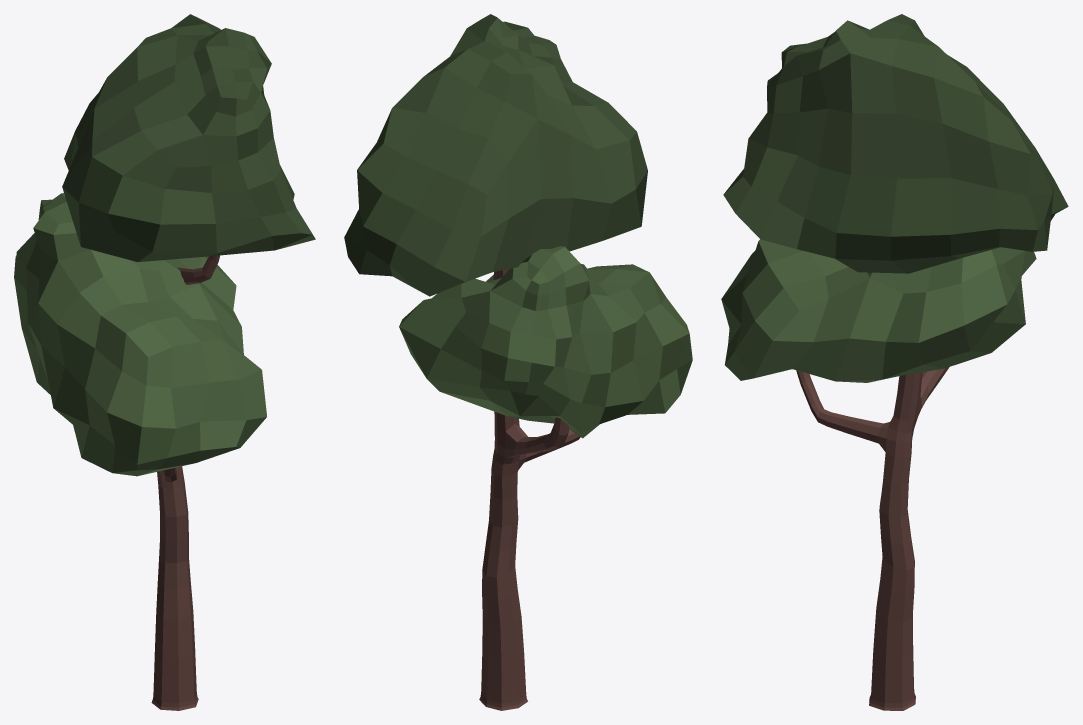
The model's file is CommonTree_3.glb.
The picture shows the model from 3 angles, left to right: view 1: azimuth 30°, elevation 25°; view 2: azimuth 150°, elevation 25°; view 3: azimuth 270°, elevation 25°; orthographic projection. The views are drawn at different scales.
Visible parts, largest first — view 1: CommonTree_3_Cube.031; view 2: CommonTree_3_Cube.031; view 3: CommonTree_3_Cube.031.
Part boxes in pixels (left/top/right/bottom): CommonTree_3_Cube.031: left=14, top=14, right=315, bottom=710; CommonTree_3_Cube.031: left=344, top=14, right=692, bottom=710; CommonTree_3_Cube.031: left=721, top=14, right=1068, bottom=710.
Size of the model in its own units: 1.28 by 3.46 by 1.56.
